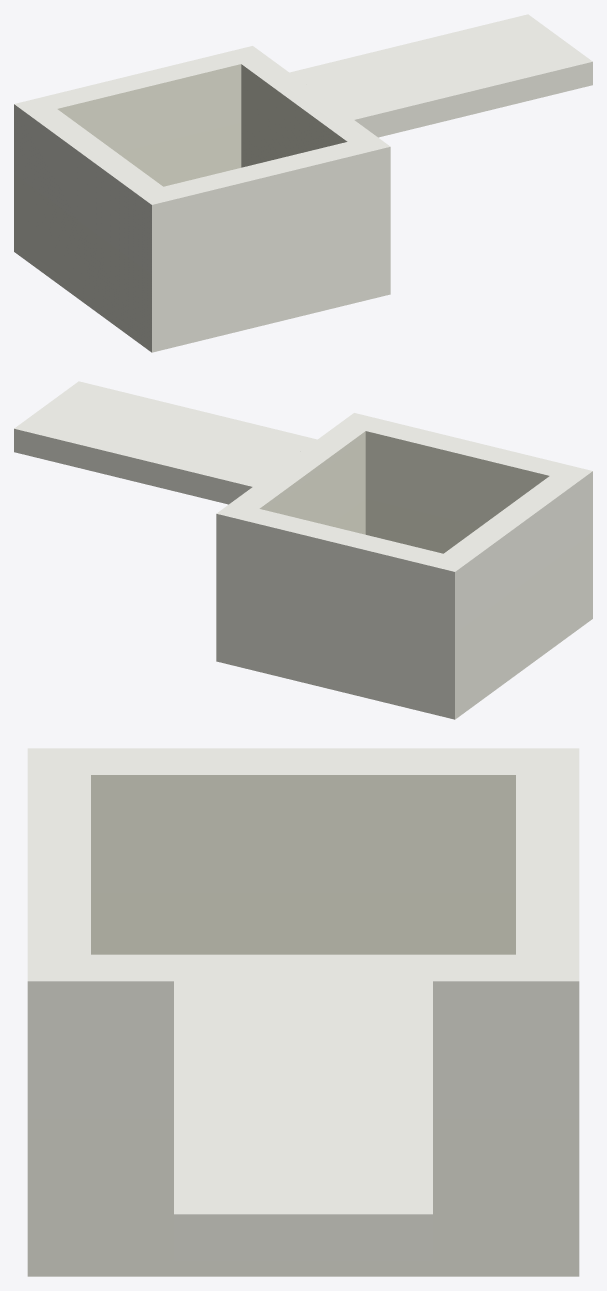
Rendered from LaundryDetergent_Powder_Scoop_Laundromat.fbx.
The picture shows the model from 3 angles, top to bottom: view 1: azimuth 30°, elevation 25°; view 2: azimuth 150°, elevation 25°; view 3: azimuth 270°, elevation 25°; orthographic projection. The views are drawn at different scales.
Parts seen in each view (by area): view 1: LaundryDetergent_Powder_Scoop.Laundromat; view 2: LaundryDetergent_Powder_Scoop.Laundromat; view 3: LaundryDetergent_Powder_Scoop.Laundromat.
Part boxes in pixels (x1,y1,x2,y2): LaundryDetergent_Powder_Scoop.Laundromat: (14,14,592,352); LaundryDetergent_Powder_Scoop.Laundromat: (14,381,592,719); LaundryDetergent_Powder_Scoop.Laundromat: (27,748,579,1276).
Size of the model in its own units: 18.33 by 5.42 by 9.16.
Materials: 1 (1 with a texture image).
